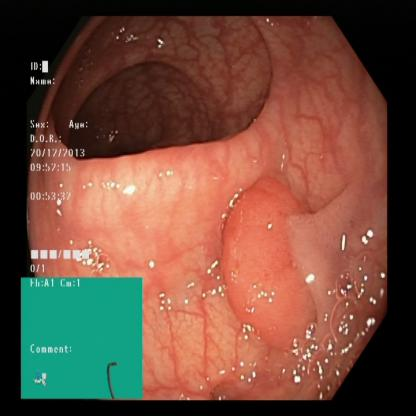Labels: (25, 57, 118, 280), (20, 278, 143, 396)
Polyps: (207, 170, 324, 342)
